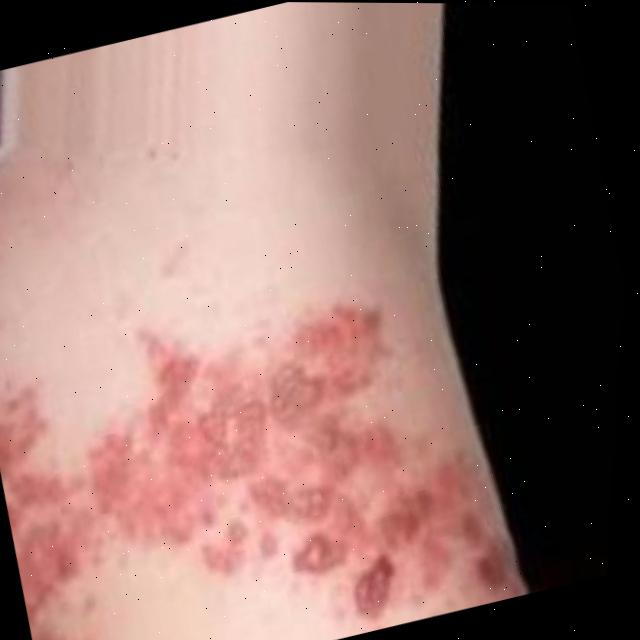Shingles: (0, 273, 475, 640)
